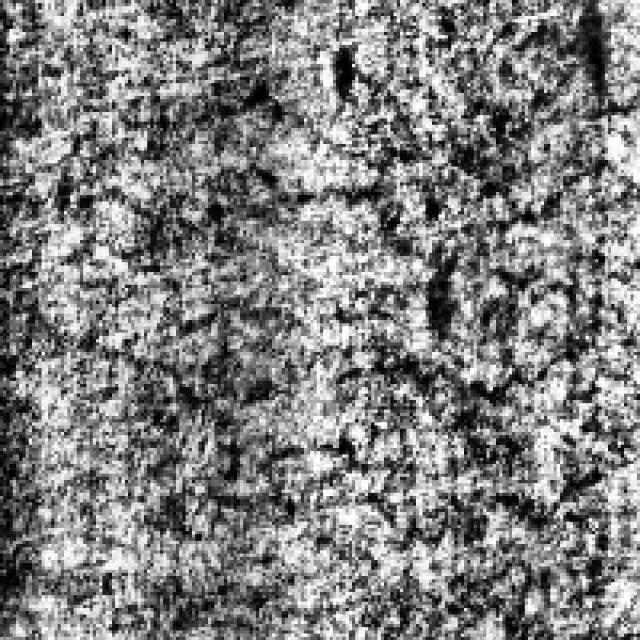Pitted_Surface: (77, 84, 582, 518)
